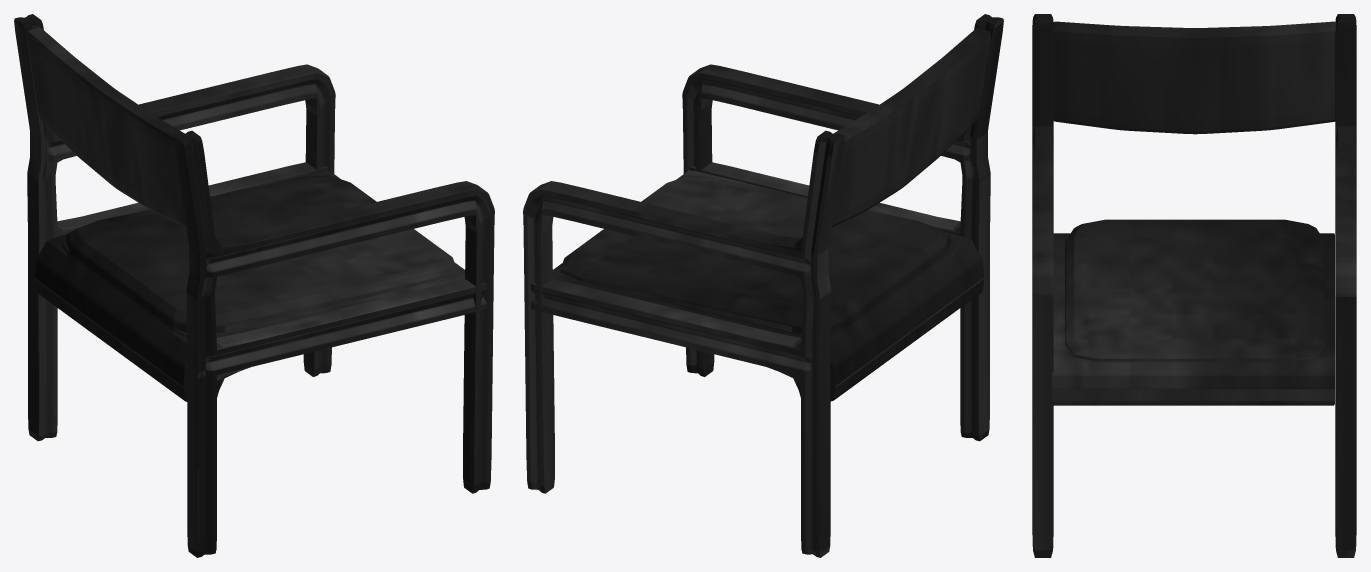
File: black chair.obj
3 renders of one model, left to right at view 1: azimuth 30°, elevation 25°; view 2: azimuth 150°, elevation 25°; view 3: azimuth 270°, elevation 25°, orthographic. The views are drawn at different scales.
Parts seen in each view (by area): view 1: Cube; view 2: Cube; view 3: Cube.
Boxes of the visible parts, x1,y1,x2,y2 form: Cube: (14, 14, 494, 557); Cube: (523, 14, 1003, 557); Cube: (1032, 14, 1356, 557).
Size of the model in its own units: 7.12 by 9.15 by 6.69.
Materials: 1 (1 with a texture image).
